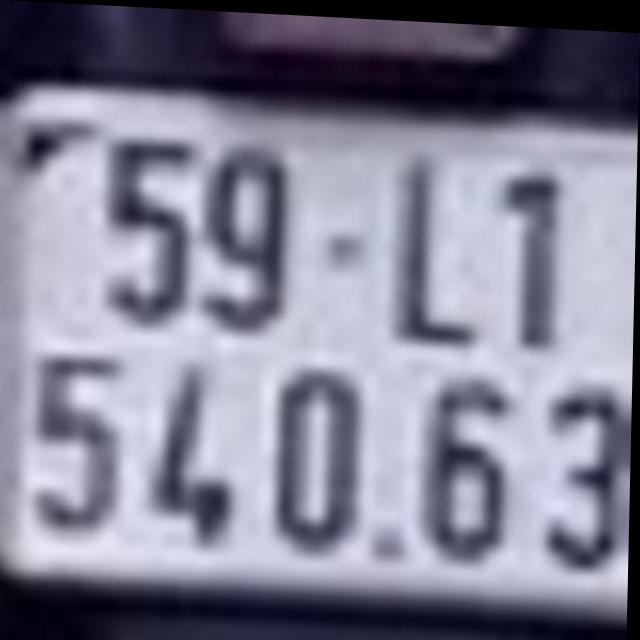0: (269, 353, 367, 548)
1: (498, 155, 569, 339)
3: (539, 371, 628, 567)
4: (153, 354, 235, 545)
5: (101, 123, 195, 331), (38, 342, 131, 542)
6: (424, 365, 511, 557)
9: (200, 134, 299, 330)
L: (392, 145, 482, 341)
